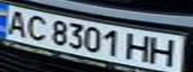0: (81, 24, 103, 54)
1: (100, 27, 124, 57)
3: (63, 21, 84, 51)
8: (45, 18, 69, 47)
A: (0, 8, 30, 37)
C: (21, 12, 51, 42)
H: (145, 35, 181, 68), (124, 32, 154, 63)
